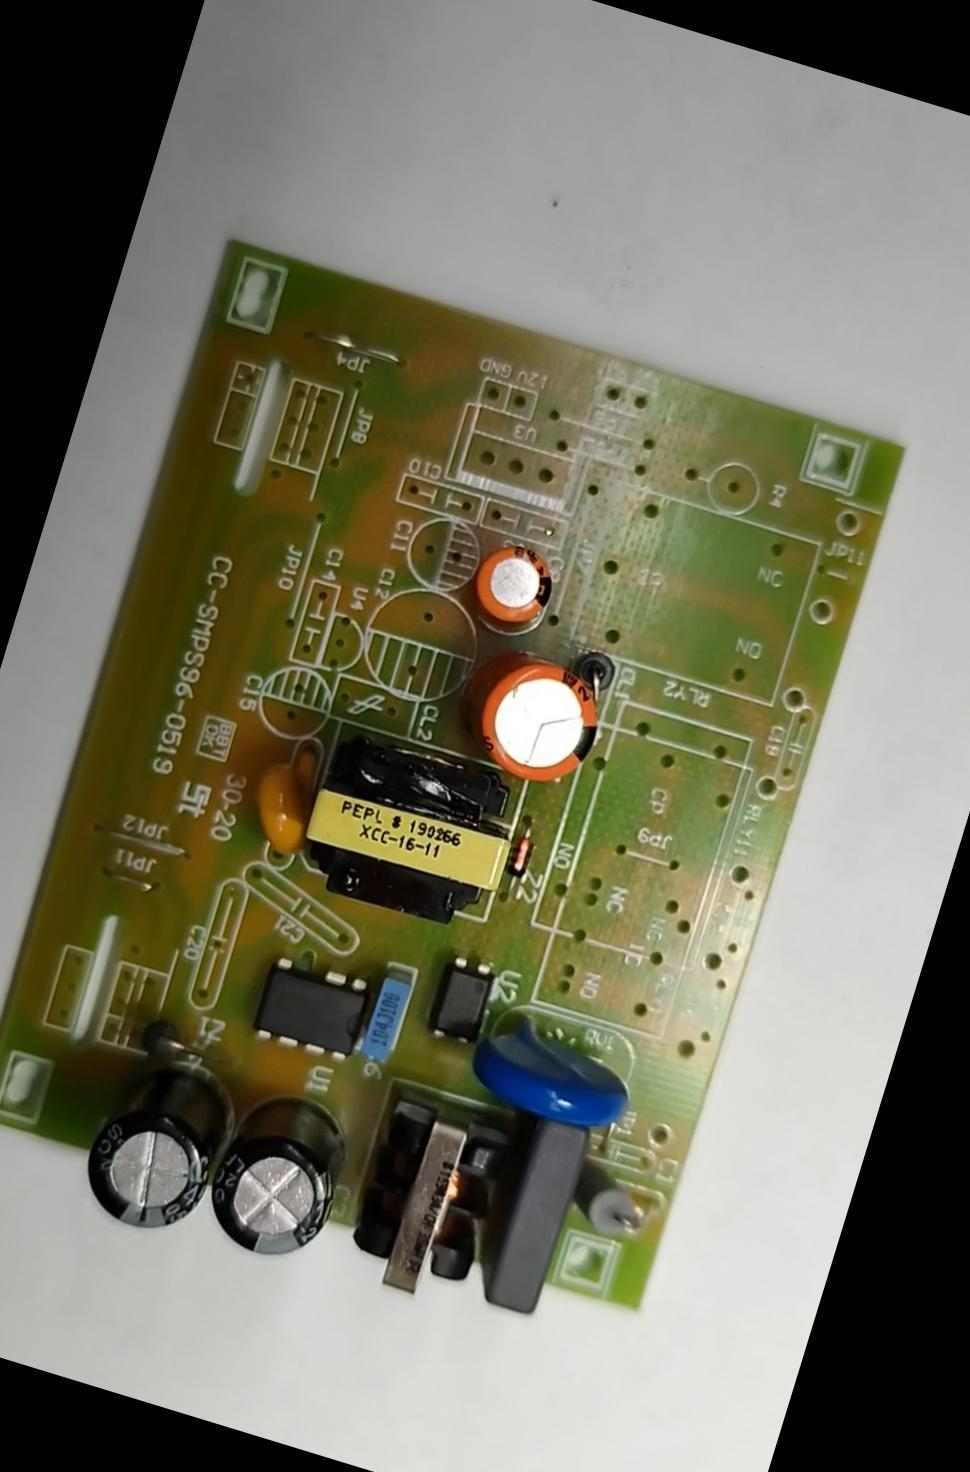Cap1: (464, 636, 618, 793)
Cap2: (467, 531, 563, 631)
Cap3: (192, 1089, 356, 1276)
Cap4: (71, 1060, 233, 1246)
MOSFET: (247, 947, 378, 1069)
Mov: (457, 999, 645, 1139)
Resistor: (565, 1153, 650, 1244)
Transformer: (285, 730, 526, 942), (340, 1089, 521, 1314)
